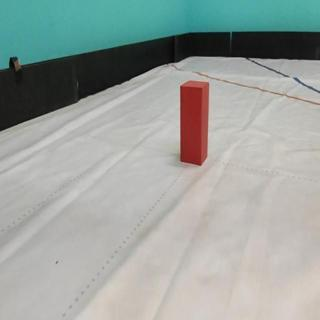redbox: (179, 79, 209, 166)
